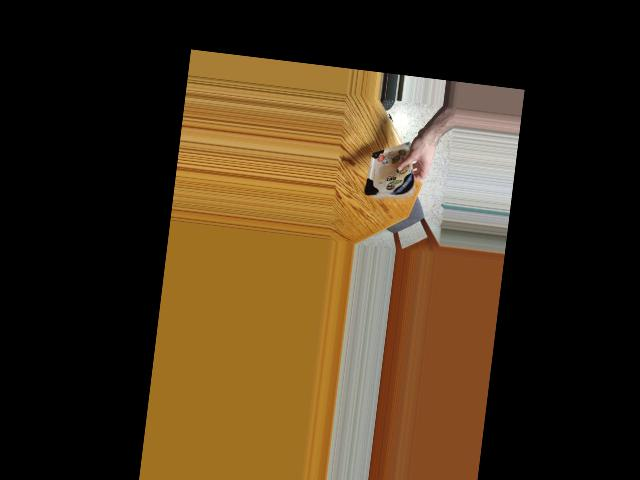cheese: (366, 148, 420, 206)
